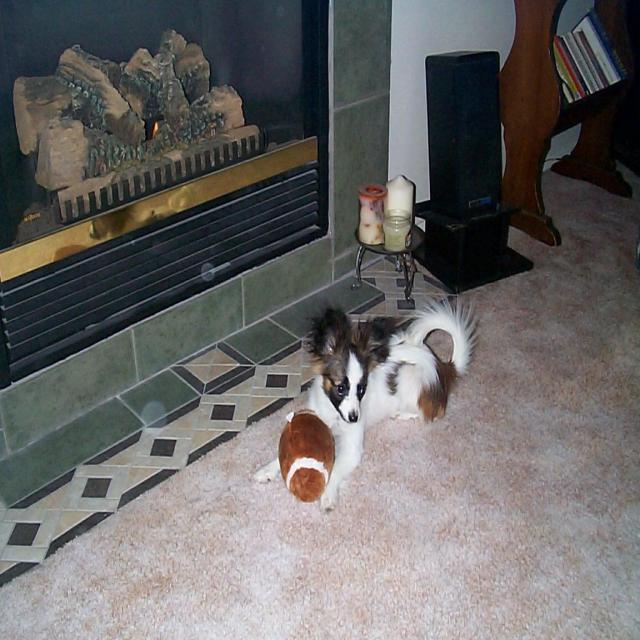papillon: (249, 294, 485, 516)
